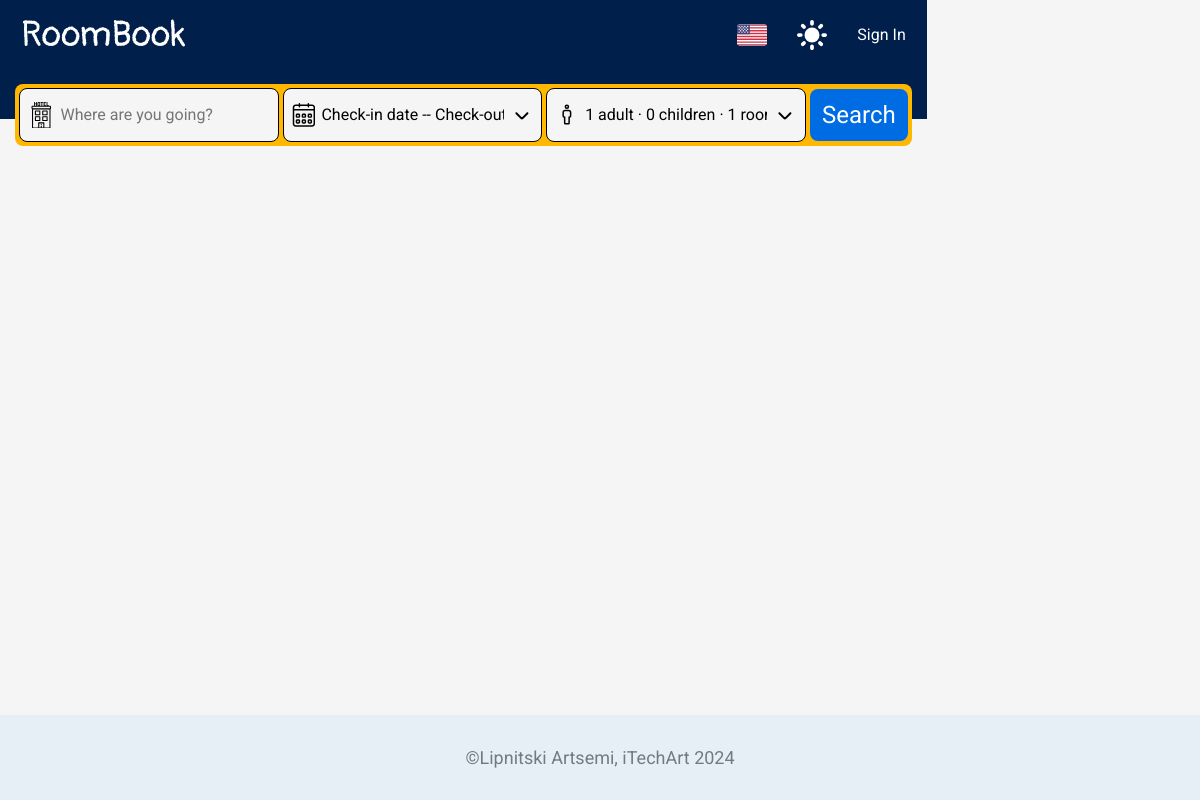
it: Counts input interaction › Field with counts manipulation must be opened on input click
This screenshot has width=1200, height=800.
What coordinates should you click on to do the following:
click the 3rd field with test id "main-input"
I would click on:
 (676, 115)
Its box is top-left (579, 97), bottom-right (773, 133).
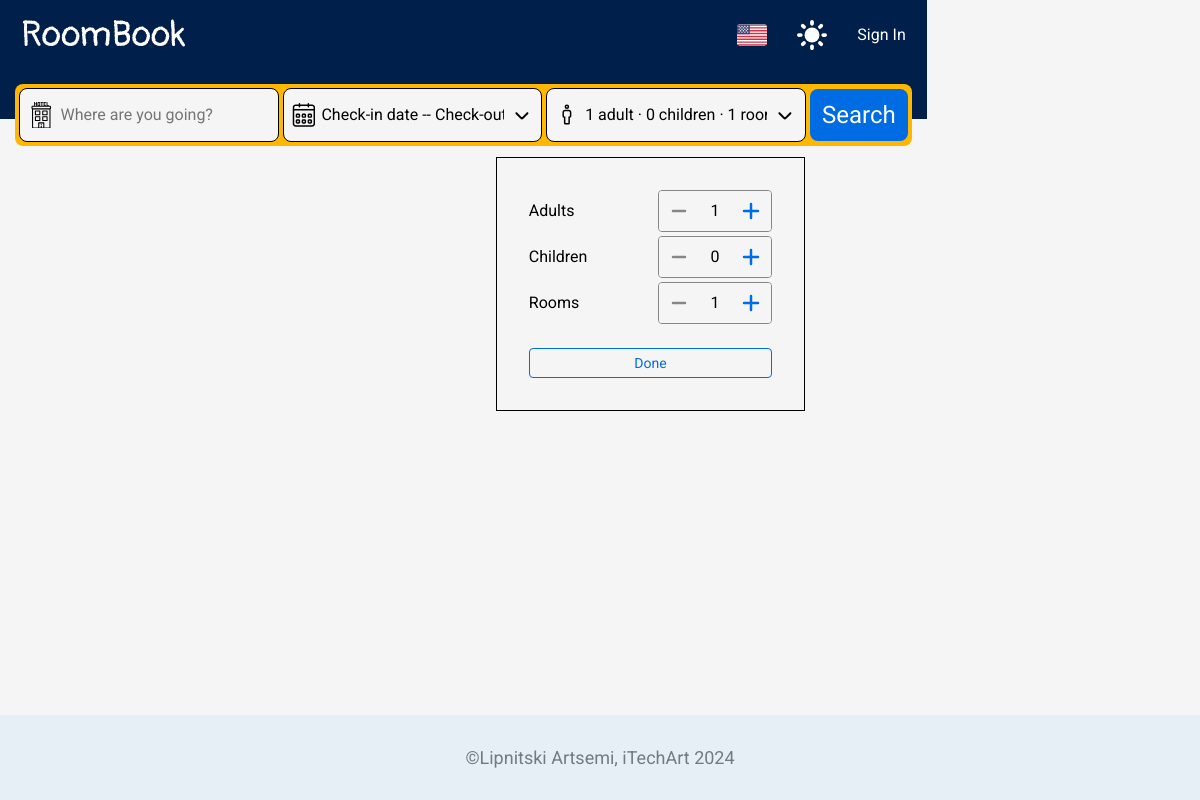
Expected: the text "adults" is shown, top-left (529, 201), bottom-right (575, 220)
Expected: the text "children" is shown, top-left (529, 247), bottom-right (588, 266)
Expected: the text "rooms" is shown, top-left (529, 293), bottom-right (579, 312)
